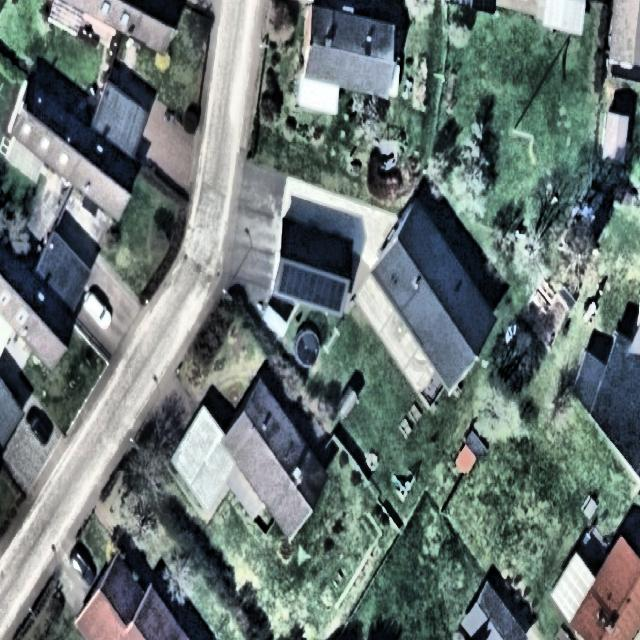roof_pv: (278, 264, 348, 313)
